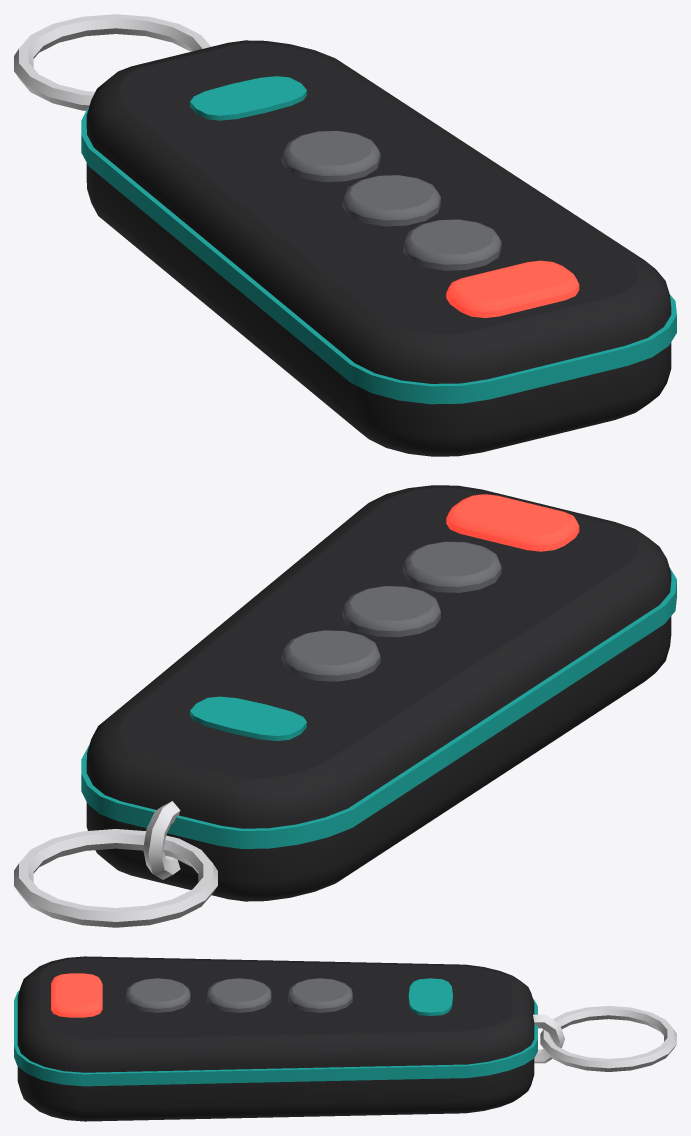
Rendered from nz_keyfob_sport.glb.
3 renders of one model, top to bottom at view 1: azimuth 30°, elevation 25°; view 2: azimuth 150°, elevation 25°; view 3: azimuth 270°, elevation 25°, orthographic. The views are drawn at different scales.
Parts seen in each view (by area): view 1: nz_keyfob_sport; view 2: nz_keyfob_sport; view 3: nz_keyfob_sport.
Part boxes in pixels (x1,y1,x2,y2): nz_keyfob_sport: (14,14,676,456); nz_keyfob_sport: (14,485,676,927); nz_keyfob_sport: (14,956,676,1121).
Size of the model in its own units: 0.0329 by 0.0133 by 0.0899.
